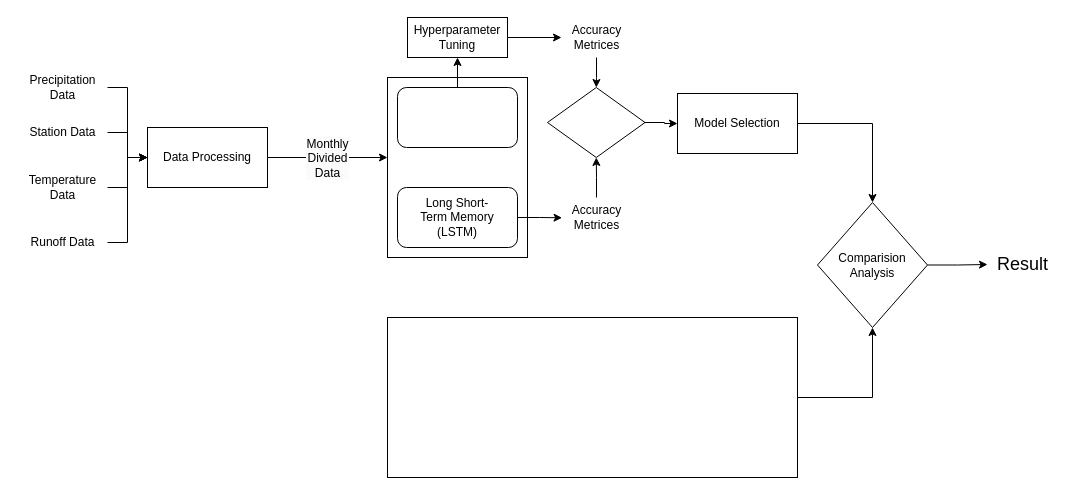
Some shapes in this 1074 by 495 pixel diagram are drawn without their labels. The centre of each missing label's shape, as x and y in pixels:
Comparison Analysis: the point at 595,122
Random Forest Regressor: the point at 457,117
Traditional Hydrological Model: the point at 592,397
